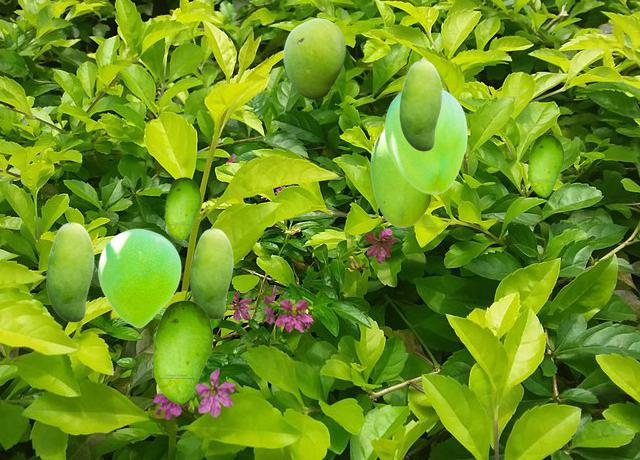green_mango: (384, 88, 466, 193), (98, 228, 180, 327), (151, 300, 212, 403), (370, 129, 431, 226), (283, 18, 344, 98), (46, 222, 93, 321), (190, 228, 232, 318), (399, 60, 441, 150), (527, 134, 563, 196), (164, 177, 200, 239)
